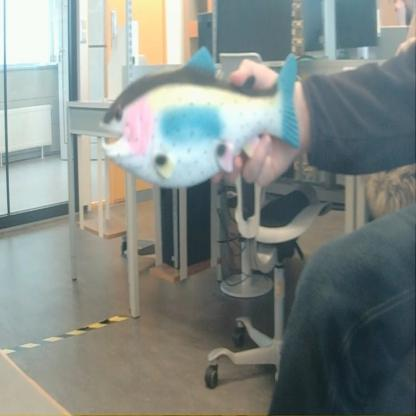rubberfish: (98, 43, 306, 193)
